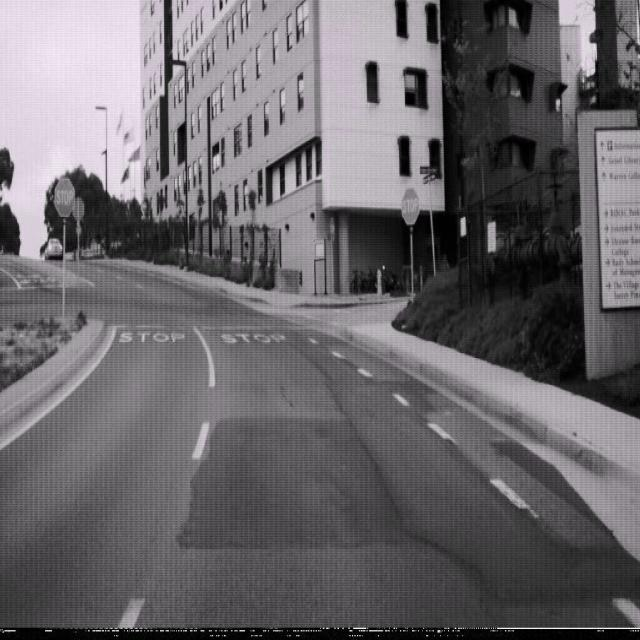stop: (53, 176, 76, 218), (402, 185, 419, 226)
